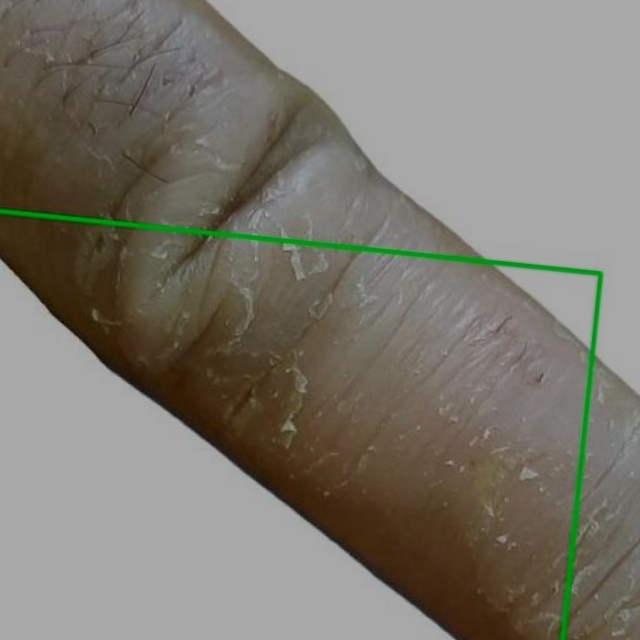Eczema: (0, 211, 600, 639)
